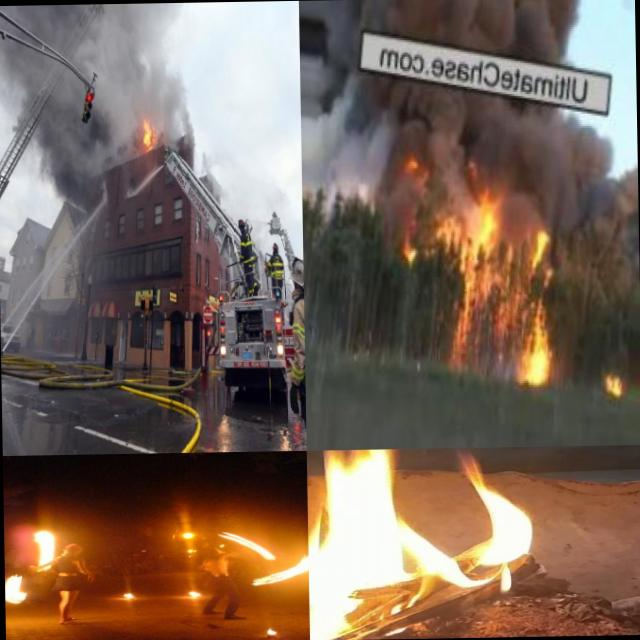fire: (306, 446, 546, 640), (443, 217, 543, 297), (232, 538, 308, 592), (516, 297, 552, 387), (20, 526, 60, 578), (602, 366, 634, 402), (4, 572, 28, 612), (140, 115, 158, 152), (120, 588, 144, 600), (260, 626, 281, 638), (187, 589, 200, 601)
smoke: (300, 123, 620, 223), (0, 2, 155, 115), (31, 113, 141, 202), (154, 2, 200, 147)
